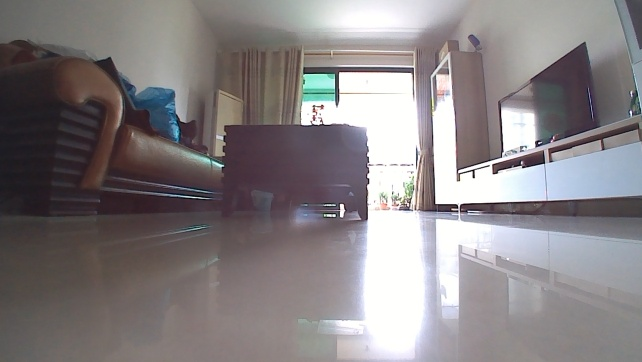TV_stand: (454, 112, 641, 217)
sofa: (0, 33, 226, 219)
tea_table: (216, 117, 376, 223)
